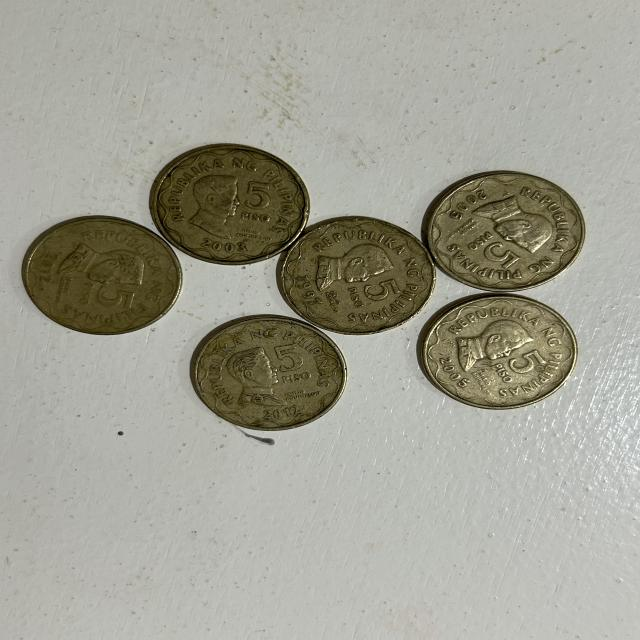5_Old_Front: (78, 280, 138, 320), (264, 342, 316, 388), (470, 231, 523, 271), (337, 276, 397, 310), (234, 181, 272, 224), (489, 351, 547, 375)
